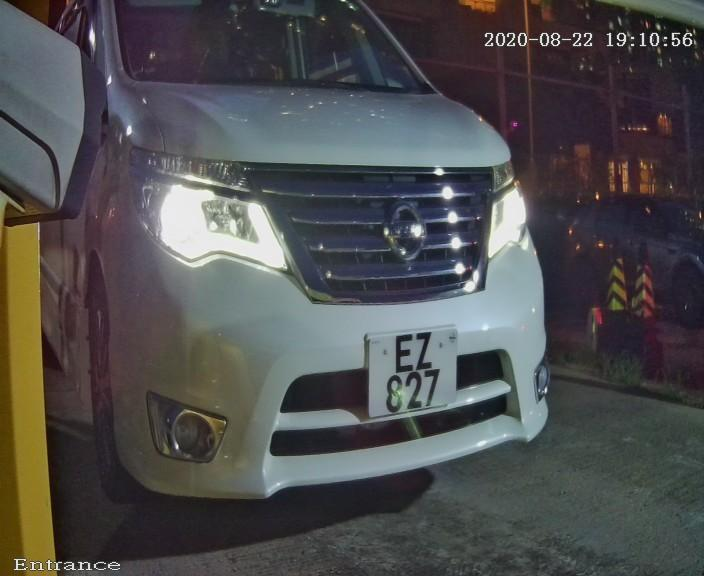License Plate: (356, 312, 469, 433)
